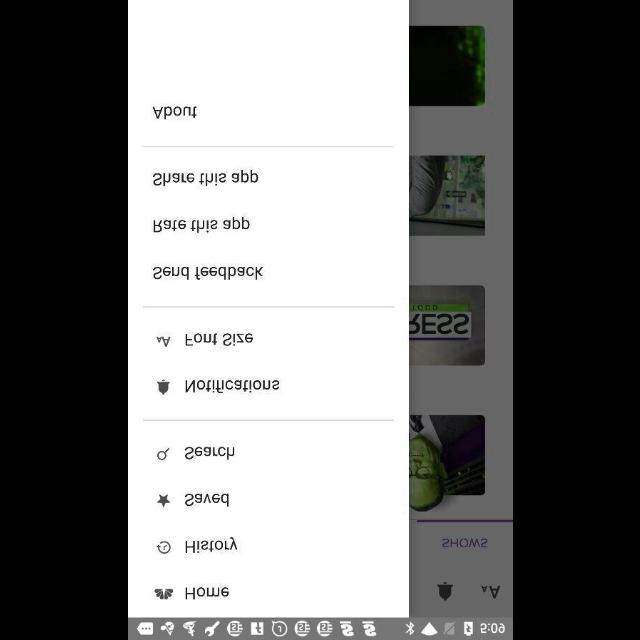icon: (156, 540, 170, 554), (156, 494, 170, 508), (156, 380, 170, 394), (156, 448, 170, 460)
image: (154, 587, 174, 599), (156, 336, 170, 346)
panel: (128, 0, 408, 618)
text: (152, 170, 258, 187), (153, 216, 250, 234), (152, 266, 264, 280), (185, 379, 279, 393), (184, 332, 253, 346), (185, 537, 237, 553), (183, 446, 234, 460), (152, 106, 196, 120), (184, 492, 228, 506), (185, 586, 229, 600)
uppertaskbar: (128, 617, 512, 639)
